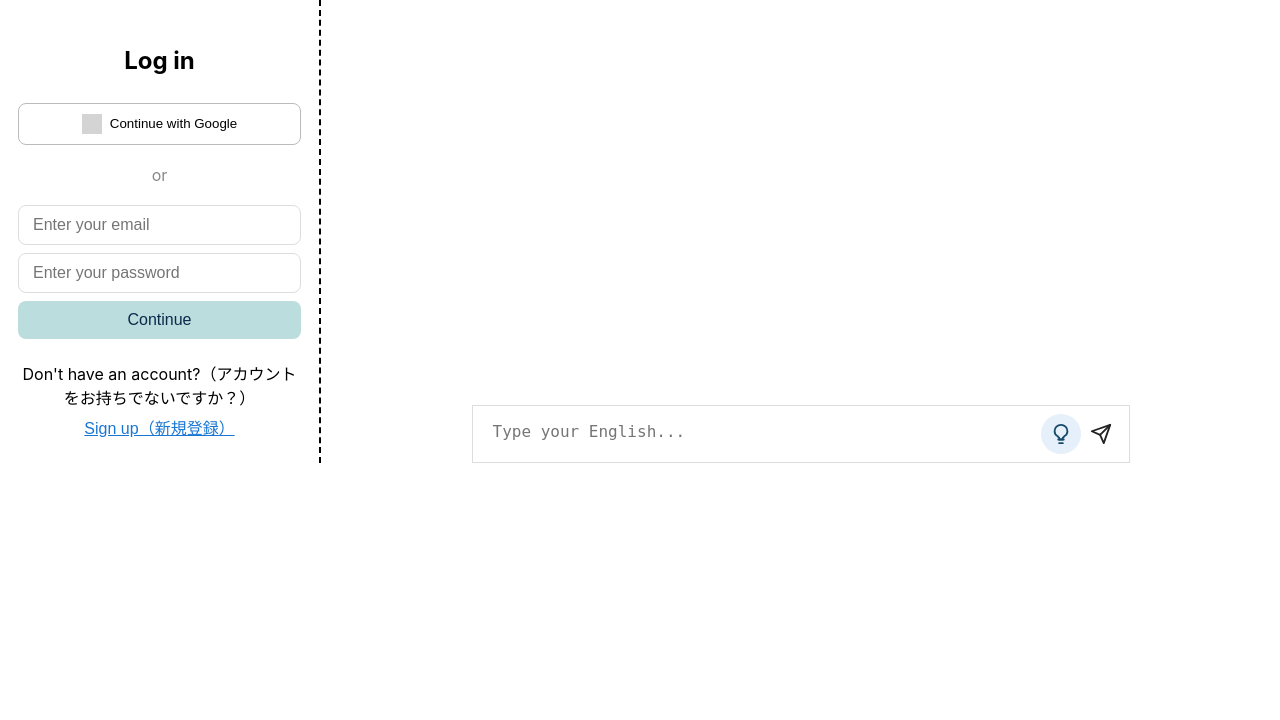
Test: Login UI behavior › shows magic link form when clicking forgot-password link
Type "a@example.com" into the field with placeholder "Enter your email". click: (160, 225)
box: [18,205,301,245]
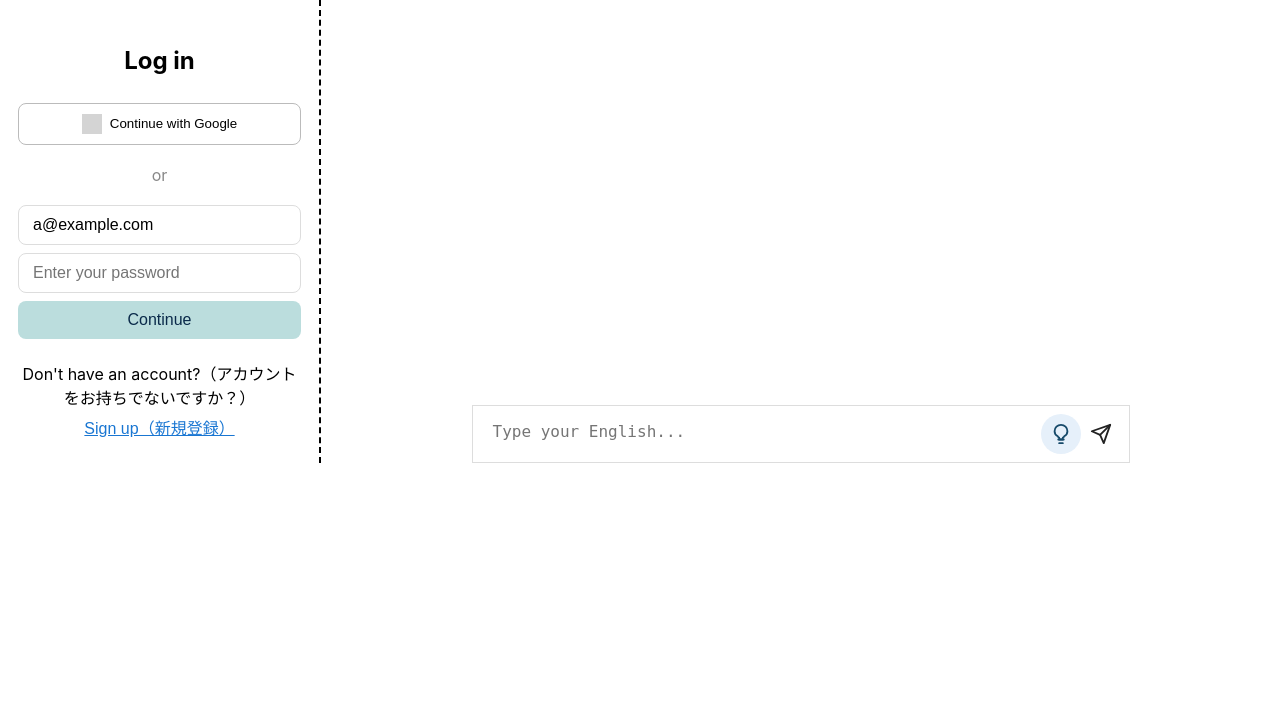
Type "badpass" into the password field with placeholder "Enter your password". click: (160, 273)
box: [18,253,301,293]
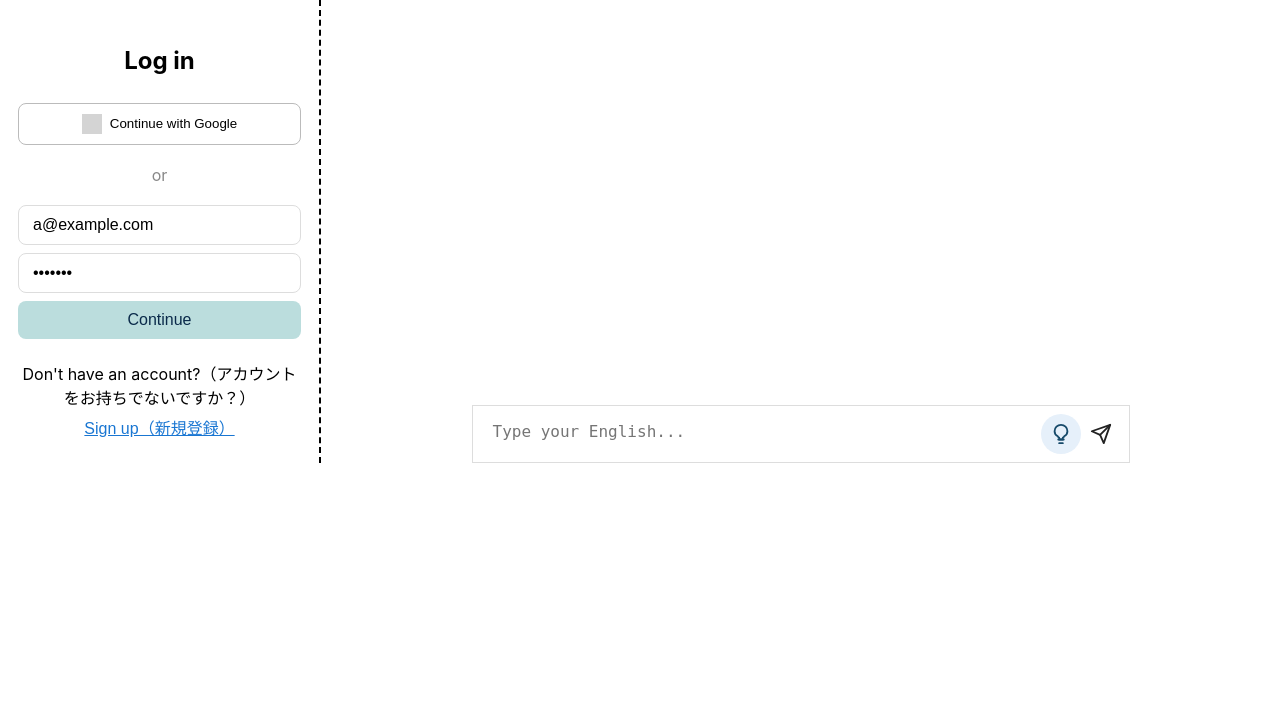
Click the button "Continue". click: (160, 320)
box: [18,301,301,339]
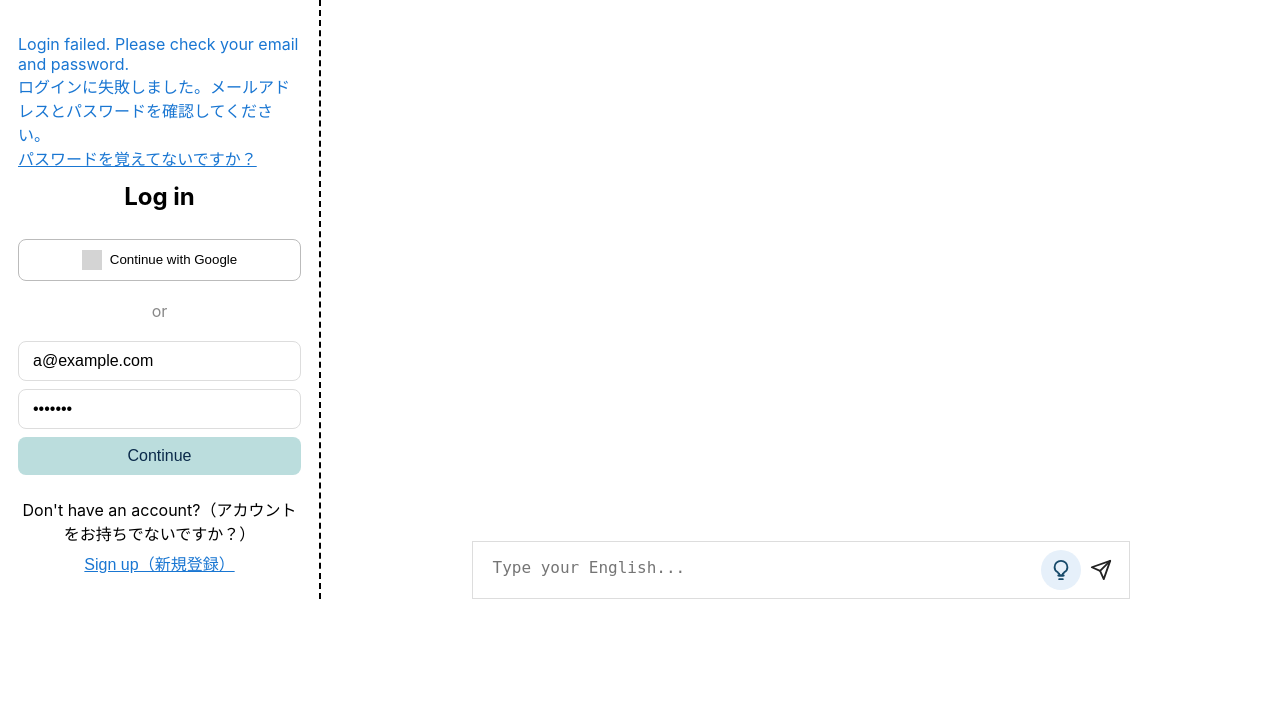
Click the text "パスワードを覚えてないですか？". click: (137, 159)
box: [18,149,257,169]
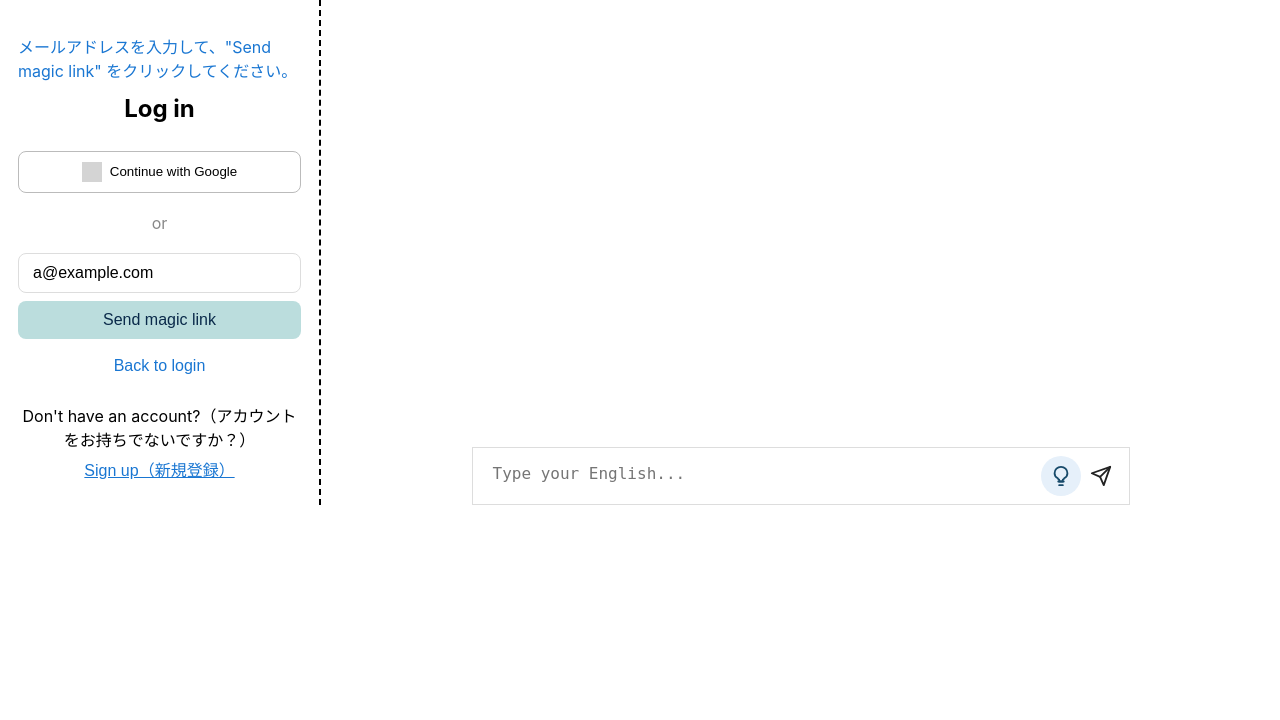
Expected: the button "Send magic link" is shown, [18,301,301,339]
